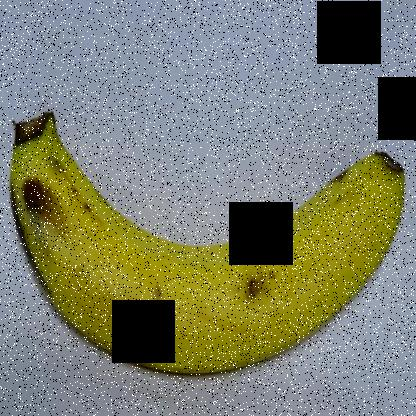freshripe: (0, 104, 405, 393)
